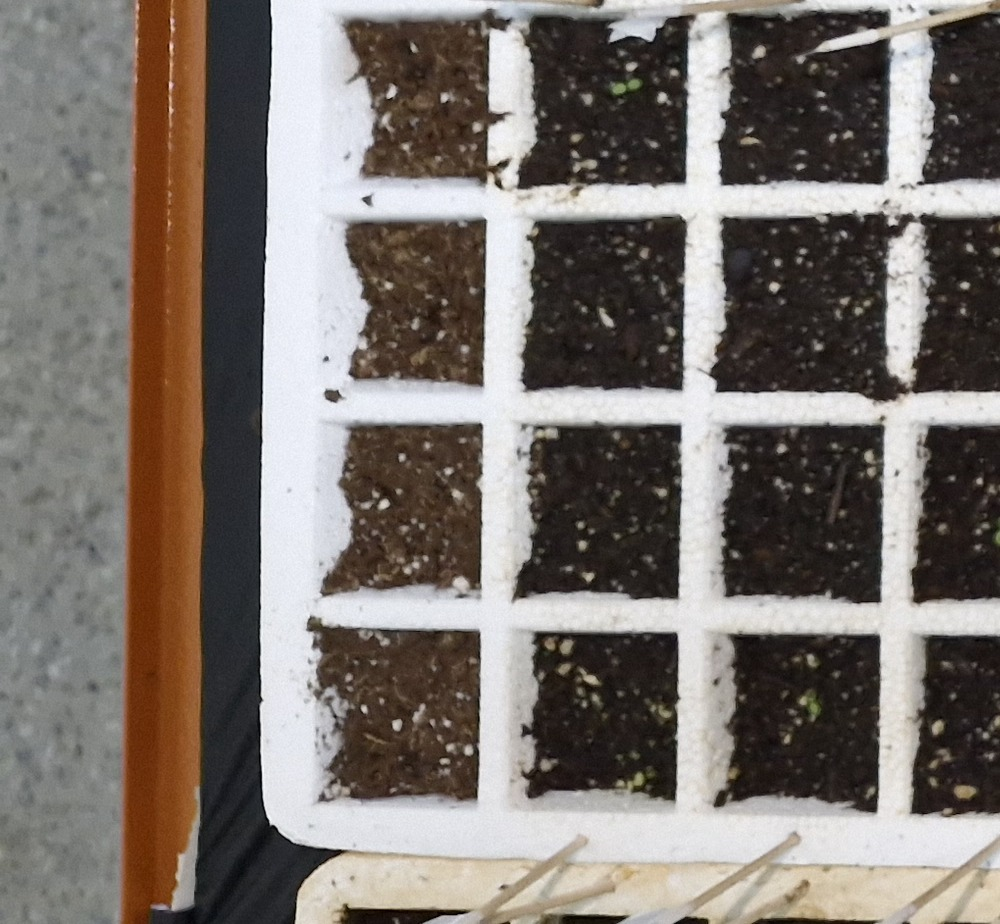Folha: (628, 80, 641, 89), (613, 84, 626, 93), (807, 691, 815, 703)
Germinacao: (612, 79, 642, 94), (805, 692, 821, 714)
